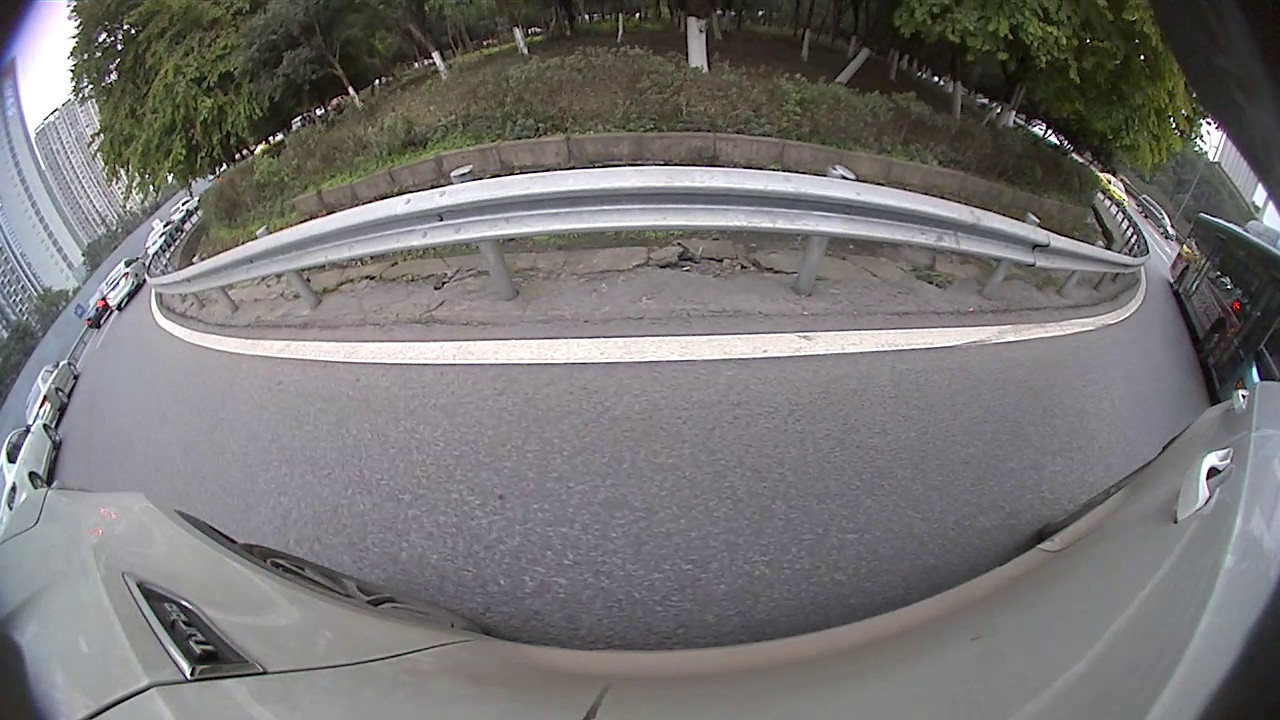bus: (1165, 207, 1278, 404)
car: (0, 422, 65, 517), (23, 358, 81, 432), (98, 256, 151, 312), (1134, 185, 1180, 243)
front: (1195, 319, 1224, 360), (44, 425, 64, 448), (68, 363, 85, 379)
rear: (1172, 266, 1187, 294), (29, 470, 49, 490), (55, 388, 73, 405)
